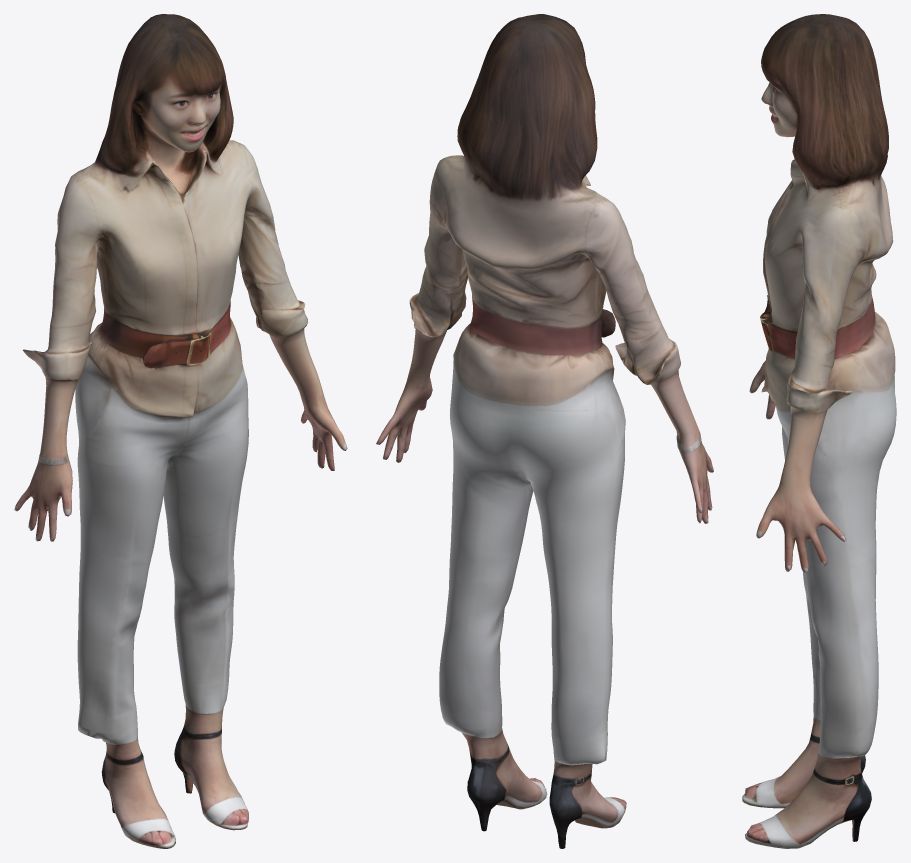
The model's file is 018_Kana_no-rig-free.fbx.
3 views of the same model, side by side, from view 1: azimuth 30°, elevation 25°; view 2: azimuth 150°, elevation 25°; view 3: azimuth 270°, elevation 25° (orthographic). The views are drawn at different scales.
Visible parts, largest first — view 1: 018_Kana; view 2: 018_Kana; view 3: 018_Kana.
Part boxes in pixels (left/top/right/bottom): 018_Kana: left=14, top=14, right=347, bottom=848; 018_Kana: left=376, top=14, right=713, bottom=848; 018_Kana: left=742, top=14, right=896, bottom=848.
Bounding box in the file's own units: 65.71 × 162 × 28.07.
1 material, 1 textured.
